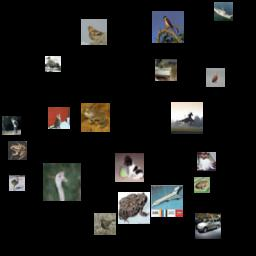airplane: (171, 102, 203, 134), (151, 185, 183, 217)
automobile: (195, 213, 221, 239)
bird: (43, 163, 81, 201), (152, 11, 184, 43), (81, 19, 107, 45), (94, 213, 116, 235), (206, 68, 225, 87), (9, 175, 25, 191), (45, 56, 61, 72)
cat: (48, 107, 70, 129), (2, 116, 21, 135)
dog: (115, 153, 144, 182), (197, 152, 216, 171)
frog: (118, 192, 150, 224), (81, 103, 110, 132), (8, 141, 27, 160), (194, 177, 210, 193)
ship: (155, 59, 177, 81), (214, 2, 233, 21)
